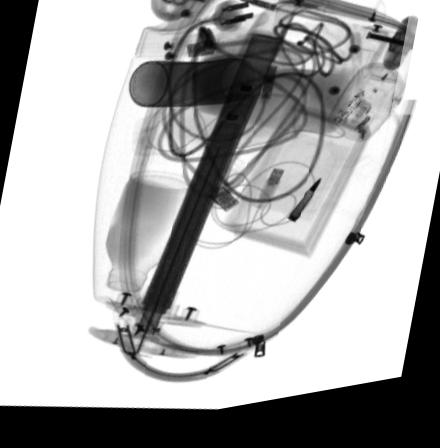Bullet: (287, 187, 322, 232)
